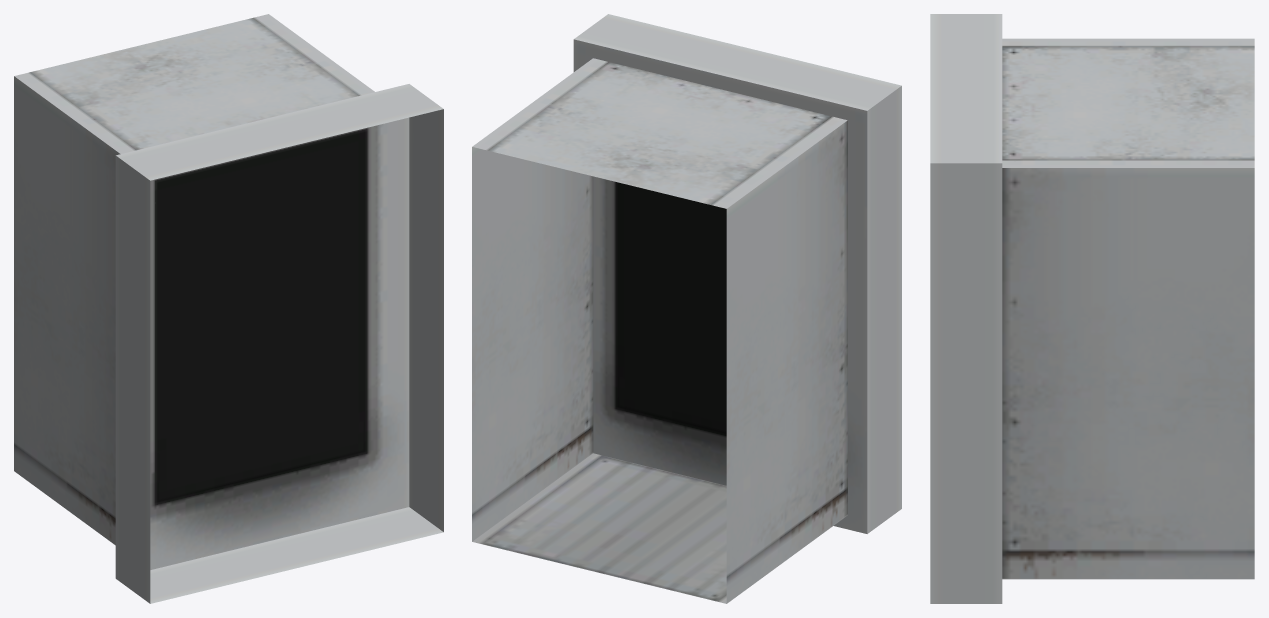
The model's file is jw_joint_1c.gltf.
3 views of the same model, side by side, from view 1: azimuth 30°, elevation 25°; view 2: azimuth 150°, elevation 25°; view 3: azimuth 270°, elevation 25° (orthographic). The views are drawn at different scales.
Parts seen in each view (by area): view 1: jw_joint_1c; view 2: jw_joint_1c; view 3: jw_joint_1c.
Boxes of the visible parts, x1,y1,x2,y2 form: jw_joint_1c: [14, 14, 443, 603]; jw_joint_1c: [472, 14, 901, 603]; jw_joint_1c: [930, 14, 1254, 603].
Size of the model in its own units: 1.96 by 2.7 by 1.8.
